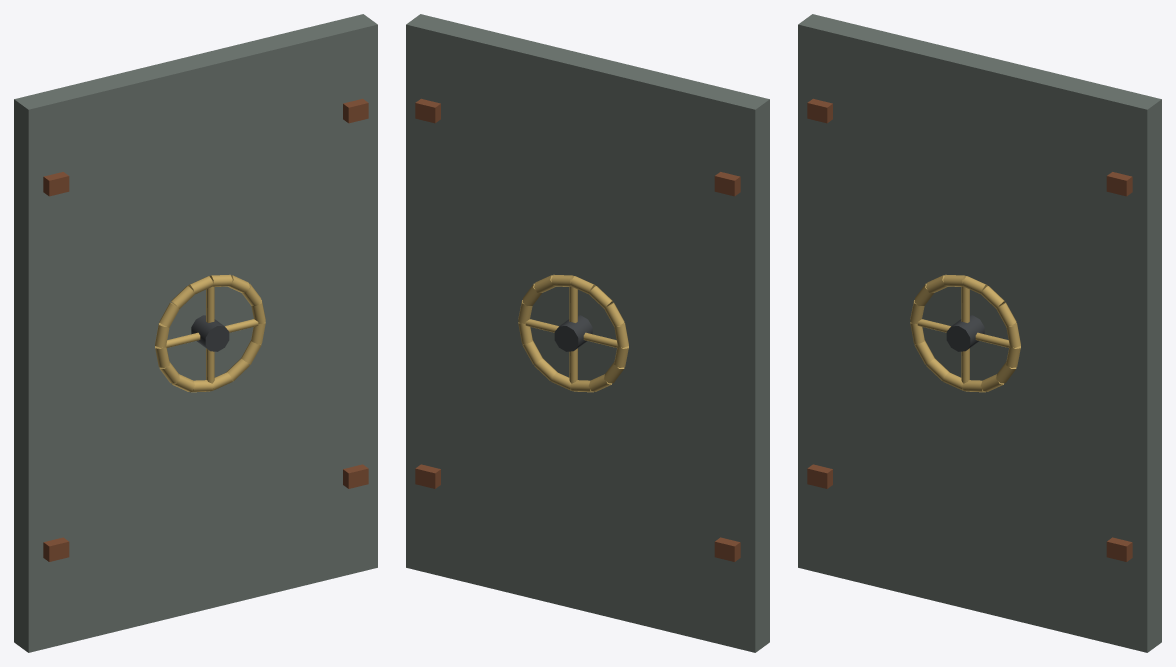
File: SM_Door_Bulkhead.fbx
The picture shows the model from 3 angles, left to right: view 1: azimuth 30°, elevation 25°; view 2: azimuth 150°, elevation 25°; view 3: azimuth 330°, elevation 25°; orthographic projection.
Parts seen in each view (by area): view 1: SM_Door_Bulkhead; view 2: SM_Door_Bulkhead; view 3: SM_Door_Bulkhead.
Part boxes in pixels (x1,y1,x2,y2): SM_Door_Bulkhead: (14, 14, 377, 652); SM_Door_Bulkhead: (406, 14, 769, 652); SM_Door_Bulkhead: (798, 14, 1161, 652).
Size of what is drawn, in the model's own units: 1.4 by 2.08 by 0.3.
